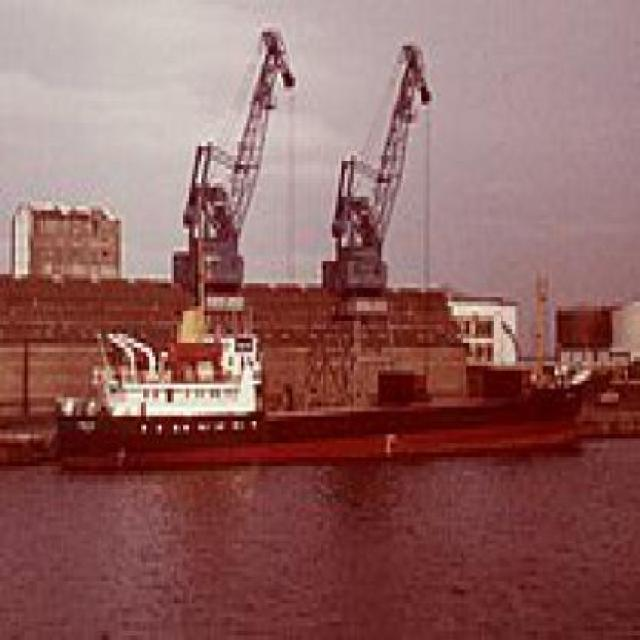container: (53, 303, 596, 486)
